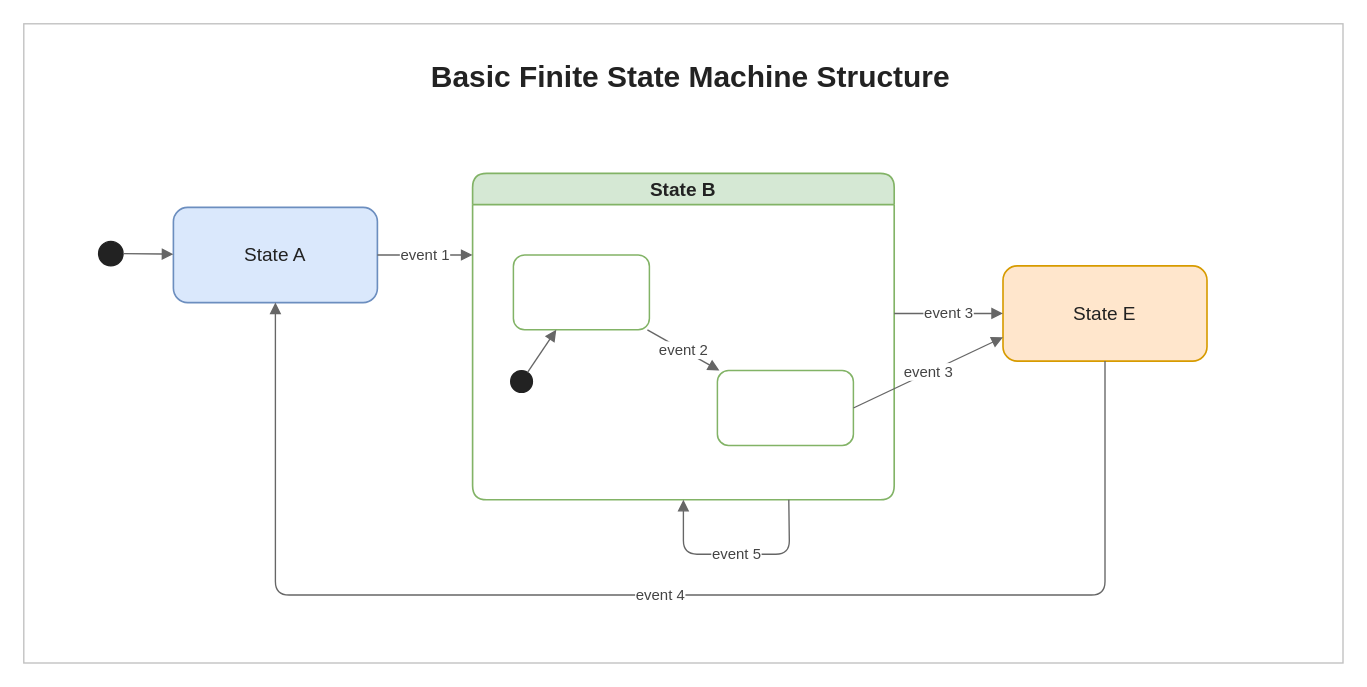
Image size: 1367x687. Some labels were removed from this diagram. Here are the shapes that lost their labels. From the top down, the box of each, then its label:
(512, 254, 650, 330): State C
(716, 369, 854, 446): State D
